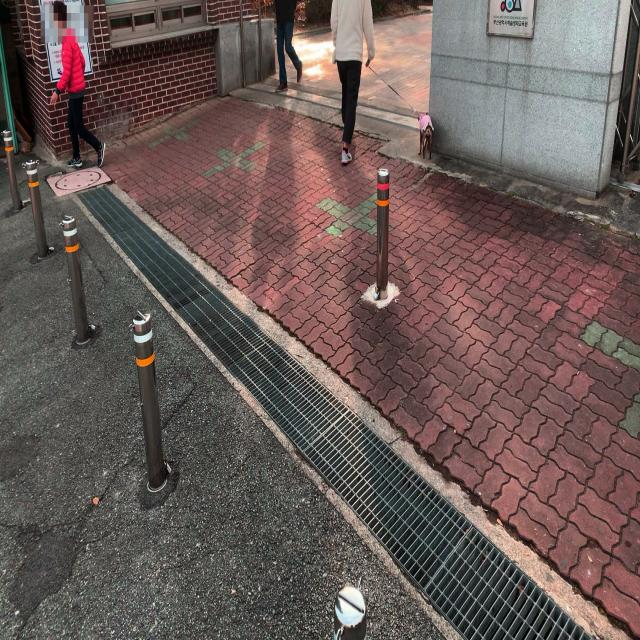Leashed_Dog: (344, 47, 433, 159)
